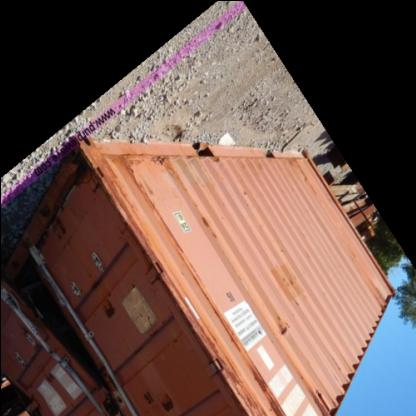Damage: (7, 238, 118, 402), (198, 281, 257, 415), (64, 143, 148, 203), (192, 204, 228, 250), (264, 316, 296, 348), (134, 390, 174, 414)
